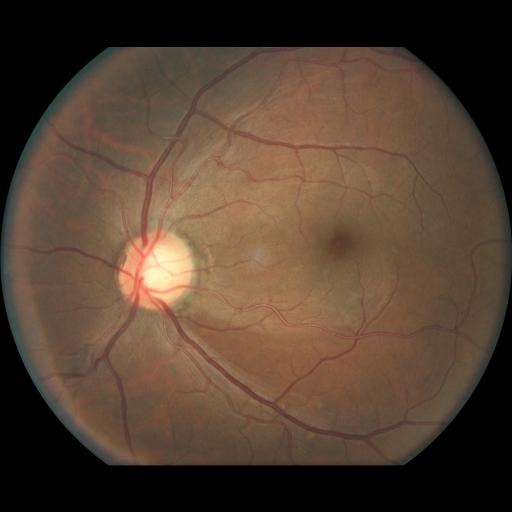Optic Cup: (138, 246, 186, 291)
Optic Disc: (117, 229, 195, 310)
